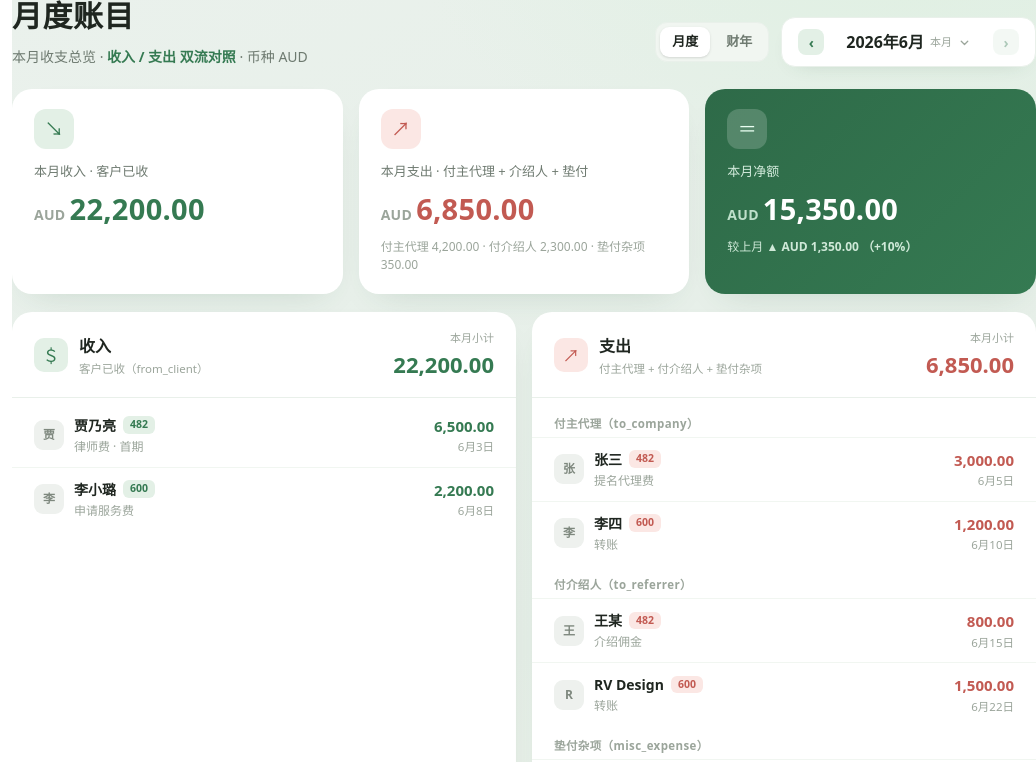
Scenario: FinancePage · 财年模式（月度 / 财年 段控） › 财年 KPI 三卡：本财年收入 / 本财年支出 / 本财年净额；小计与底部条同改口径
Step 1. Click the button "财年" → (739, 42), box [714,27,764,57]
(page scrolled)
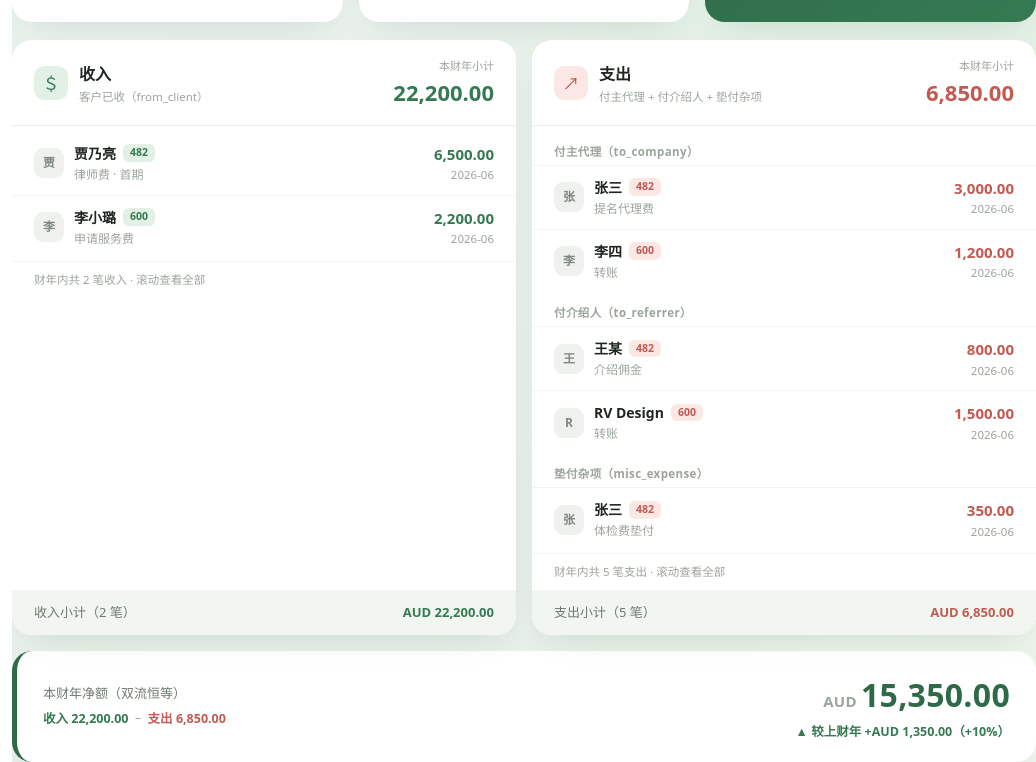
Expected: the text "本财年小计" is shown 2 times, [439,58,494,73]; [959,58,1014,73]
Now the text "本财年净额（双流恒等）" is shown, box [43,684,186,702]
